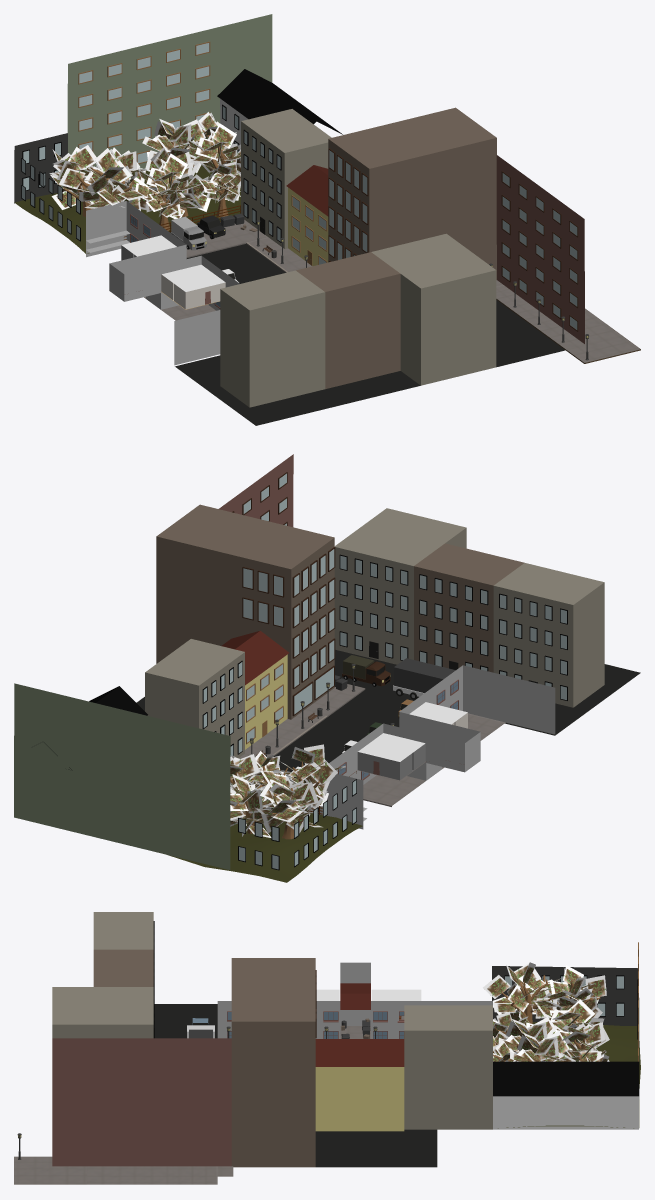
File: samouczek_FIINAL.fbx
3 renders of one model, top to bottom at view 1: azimuth 30°, elevation 25°; view 2: azimuth 150°, elevation 25°; view 3: azimuth 270°, elevation 25°, orthographic. The views are drawn at different scales.
Parts seen in each view (by area): view 1: drzwi.002, Cube.002, Cube.009, droga, Cube.008, alejka, drzwi, Plane.011, droga.004, Plane.002, Plane.003, Cube.010 (+20 smaller); view 2: drzwi.002, Cube.009, Cube.002, alejka, drzwi, droga, Plane.008, Plane.003, Plane.007, Cube.008, droga.002, Cylinder.029 (+18 smaller); view 3: Cube.008, Cube.002, drzwi, drzwi.002, droga, Cube.001, Cube.010, Cube.011, droga.004, alejka, Cube.012, Cylinder.029 (+11 smaller).
Part boxes in pixels (bbox=[...]): drzwi.002: bbox=[220, 233, 496, 407]; Cube.002: bbox=[328, 107, 496, 279]; Cube.009: bbox=[67, 14, 272, 168]; droga: bbox=[175, 244, 565, 425]; Cube.008: bbox=[496, 155, 584, 343]; alejka: bbox=[86, 201, 239, 365]; drzwi: bbox=[241, 109, 331, 248]; Plane.011: bbox=[78, 41, 210, 165]; droga.004: bbox=[496, 285, 640, 363]; Plane.002: bbox=[501, 171, 578, 331]; Plane.003: bbox=[328, 148, 368, 260]; Cube.010: bbox=[217, 69, 342, 134]; drzwi.002: bbox=[334, 508, 604, 707]; Cube.009: bbox=[14, 683, 230, 869]; Cube.002: bbox=[156, 504, 334, 719]; alejka: bbox=[320, 665, 555, 829]; drzwi: bbox=[145, 639, 244, 758]; droga: bbox=[136, 650, 640, 771]; Plane.008: bbox=[158, 813, 362, 882]; Plane.003: bbox=[292, 547, 335, 689]; Plane.007: bbox=[255, 776, 322, 839]; Cube.008: bbox=[219, 454, 293, 526]; droga.002: bbox=[238, 684, 365, 758]; Cylinder.029: bbox=[260, 744, 345, 808]; Cube.008: bbox=[52, 1038, 231, 1166]; Cube.002: bbox=[231, 958, 315, 1167]; drzwi: bbox=[404, 1005, 492, 1129]; drzwi.002: bbox=[52, 912, 154, 1038]; droga: bbox=[154, 1004, 437, 1167]; Cube.001: bbox=[315, 1067, 404, 1131]; Cube.010: bbox=[493, 1061, 639, 1096]; Cube.011: bbox=[493, 1096, 638, 1129]; droga.004: bbox=[14, 1156, 217, 1184]; alejka: bbox=[217, 962, 492, 1038]; Cube.012: bbox=[492, 966, 637, 1025]; Cylinder.029: bbox=[483, 962, 572, 1026].
Bounding box in the file's own units: 8335 × 5725 × 2315.
